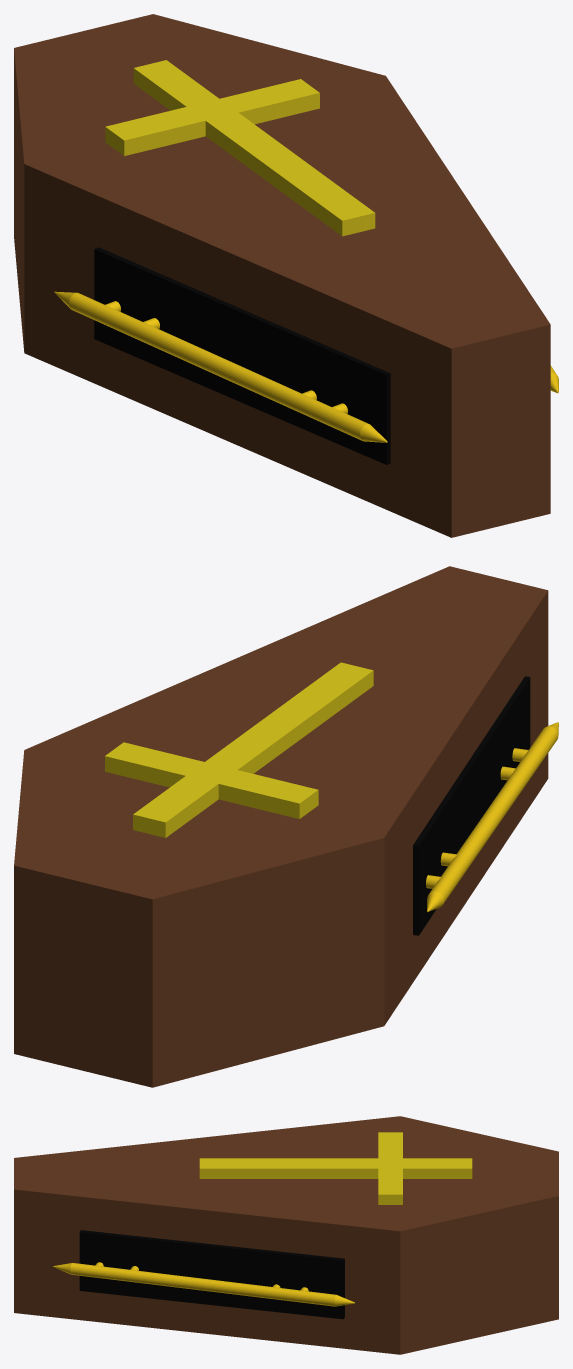
Rendered from caixao.fbx.
3 renders of one model, top to bottom at view 1: azimuth 30°, elevation 25°; view 2: azimuth 150°, elevation 25°; view 3: azimuth 270°, elevation 25°, orthographic. The views are drawn at different scales.
Visible parts, largest first — view 1: Cube.001; view 2: Cube.001; view 3: Cube.001.
Part boxes in pixels (<box>): Cube.001: <box>14,14,558,537</box>; Cube.001: <box>14,566,558,1087</box>; Cube.001: <box>14,1116,558,1354</box>.
Bounding box in the file's own units: 211 × 108 × 400.
